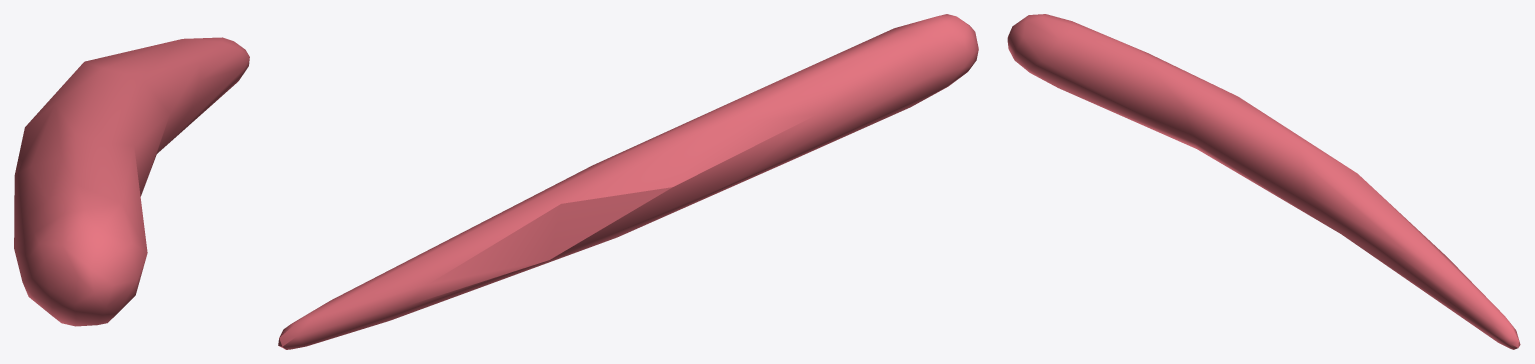
The model's file is fma9438_fj2943.glb.
3 renders of one model, left to right at view 1: azimuth 30°, elevation 25°; view 2: azimuth 150°, elevation 25°; view 3: azimuth 270°, elevation 25°, orthographic. The views are drawn at different scales.
Visible parts, largest first — view 1: FMA9438_FJ2943; view 2: FMA9438_FJ2943; view 3: FMA9438_FJ2943.
Boxes of the visible parts, x1,y1,x2,y2 form: FMA9438_FJ2943: (14, 37, 249, 326); FMA9438_FJ2943: (278, 14, 978, 349); FMA9438_FJ2943: (1007, 14, 1520, 349).
Bounding box in the file's own units: 0.0177 × 0.00897 × 0.0229.
